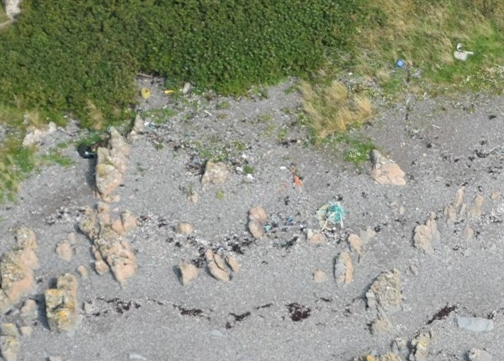net: (312, 196, 351, 234)
scattered_barrel: (131, 73, 199, 103)
white_in_green: (65, 132, 110, 172), (385, 45, 420, 81)
